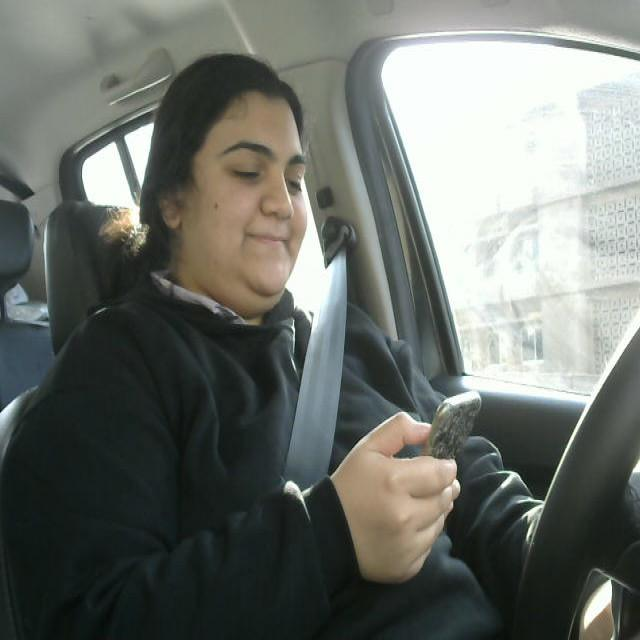mobile use: (428, 385, 486, 488)
